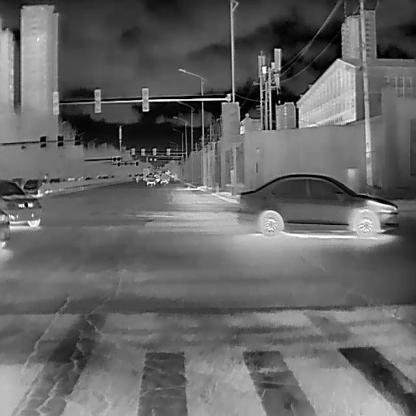car: (236, 171, 398, 235), (0, 179, 42, 230), (21, 176, 42, 194), (145, 174, 155, 185), (158, 174, 168, 183)
